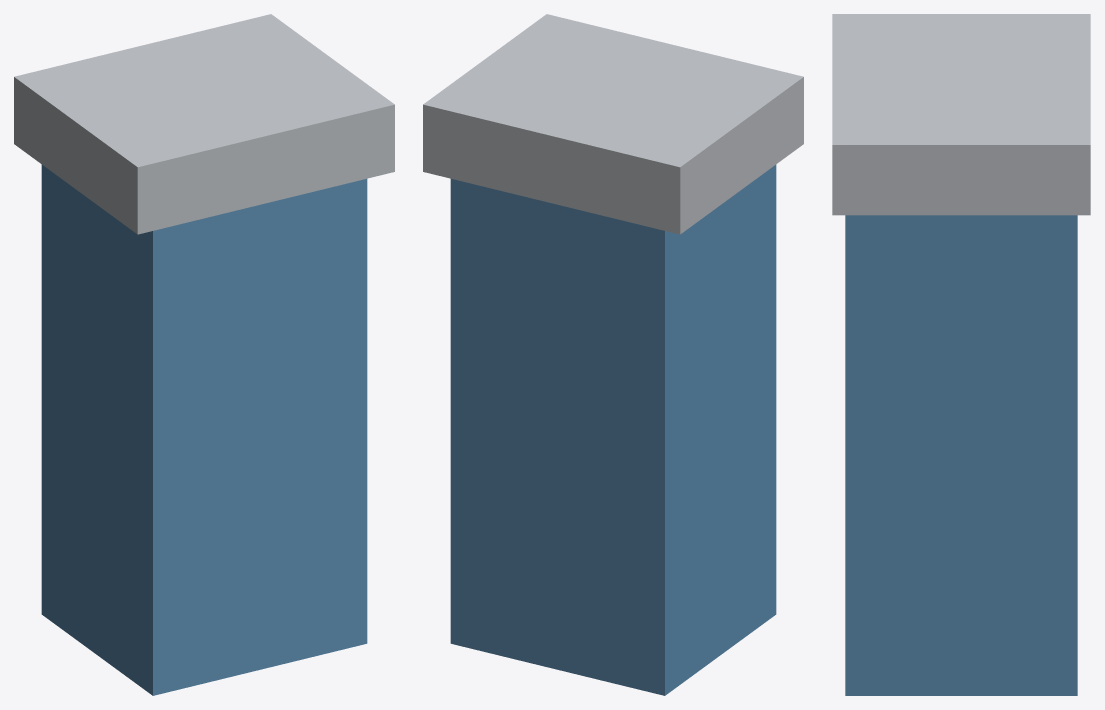
Rendered from mailbox.glb.
The picture shows the model from 3 angles, left to right: view 1: azimuth 30°, elevation 25°; view 2: azimuth 150°, elevation 25°; view 3: azimuth 270°, elevation 25°; orthographic projection. The views are drawn at different scales.
Visible parts, largest first — view 1: world; view 2: world; view 3: world.
Part boxes in pixels (x1=…): world: x1=14, y1=14, x2=394, y2=695; world: x1=423, y1=14, x2=803, y2=695; world: x1=832, y1=14, x2=1090, y2=695.
Size of the model in its own units: 0.24 by 0.48 by 0.2.
